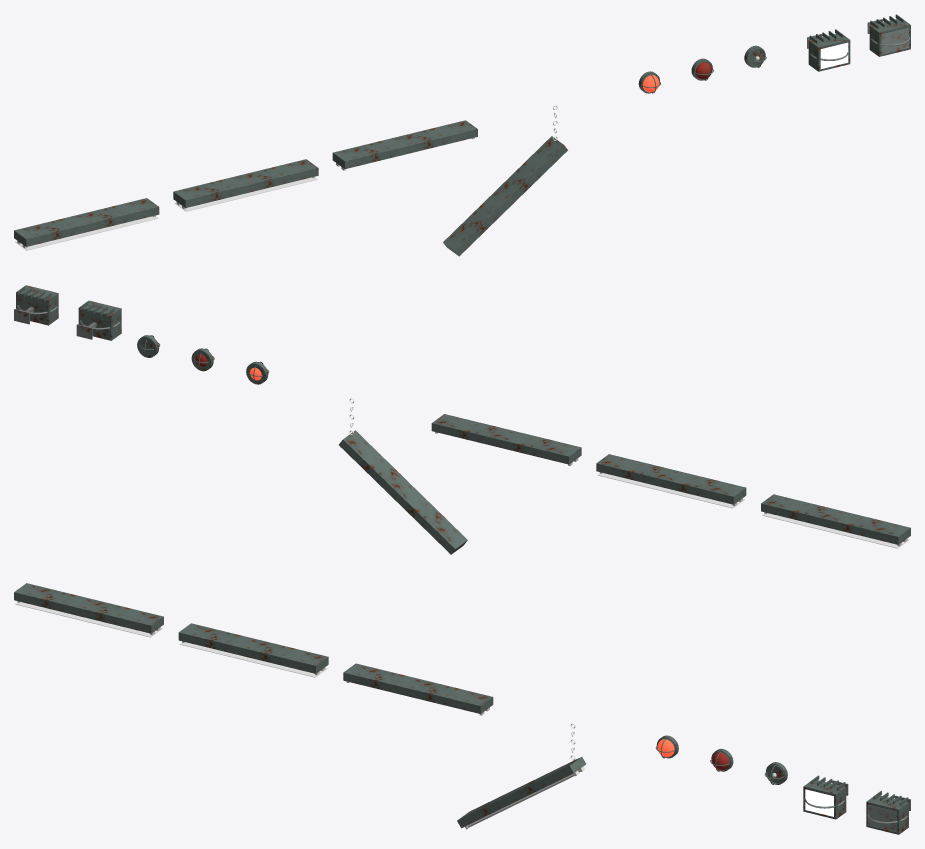
The model's file is lampade.glb.
3 renders of one model, top to bottom at view 1: azimuth 30°, elevation 25°; view 2: azimuth 150°, elevation 25°; view 3: azimuth 330°, elevation 25°, orthographic. The views are drawn at different scales.
Visible parts, largest first — view 1: det_neon_penzolante, det_neon_soffitto_spento, det_neon_soffitto, det_neon_senza_diffusore, det_faro, det_faro_spento; view 2: det_neon_penzolante, det_neon_soffitto_spento, det_neon_soffitto, det_neon_senza_diffusore, det_faro, det_faro_spento; view 3: det_neon_soffitto_spento, det_neon_soffitto, det_neon_senza_diffusore, det_neon_penzolante, det_faro, det_faro_spento.
Part boxes in pixels (<box>): det_neon_penzolante: <box>443,105,567,256</box>; det_neon_soffitto_spento: <box>173,159,318,211</box>; det_neon_soffitto: <box>14,198,159,250</box>; det_neon_senza_diffusore: <box>332,120,477,170</box>; det_faro: <box>807,29,850,71</box>; det_faro_spento: <box>867,14,910,56</box>; det_neon_penzolante: <box>339,398,467,554</box>; det_neon_soffitto_spento: <box>596,454,746,508</box>; det_neon_soffitto: <box>761,494,910,548</box>; det_neon_senza_diffusore: <box>431,414,581,465</box>; det_faro: <box>76,300,121,340</box>; det_faro_spento: <box>14,285,58,325</box>; det_neon_soffitto_spento: <box>178,623,328,677</box>; det_neon_soffitto: <box>14,583,163,637</box>; det_neon_senza_diffusore: <box>343,663,493,715</box>; det_neon_penzolante: <box>457,723,585,829</box>; det_faro: <box>803,775,848,819</box>; det_faro_spento: <box>866,791,910,834</box>.
Size of the model in its own units: 8.26 by 1.27 by 0.513.
Materials: 11 (4 with a texture image).
